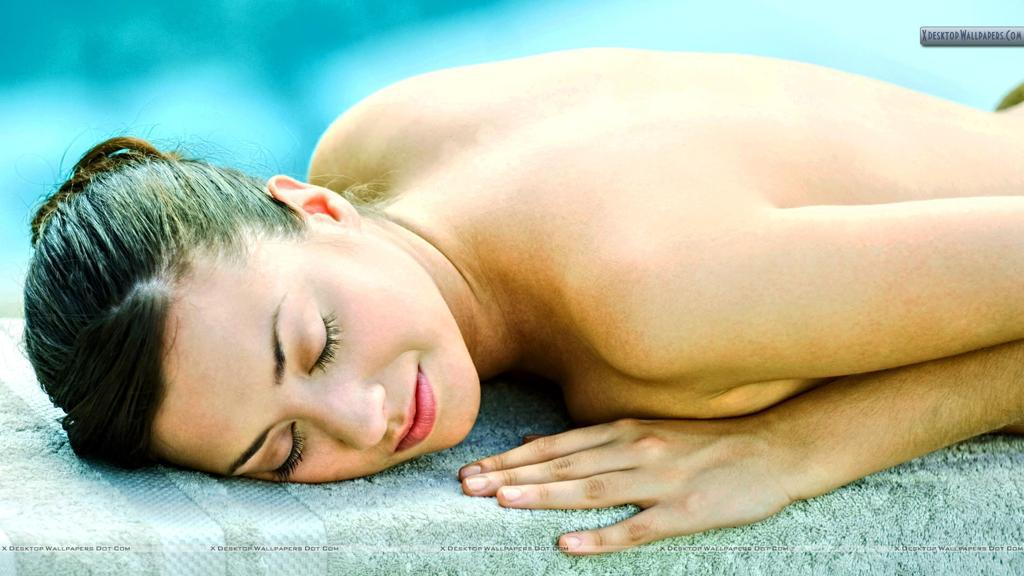face: (163, 261, 481, 479)
